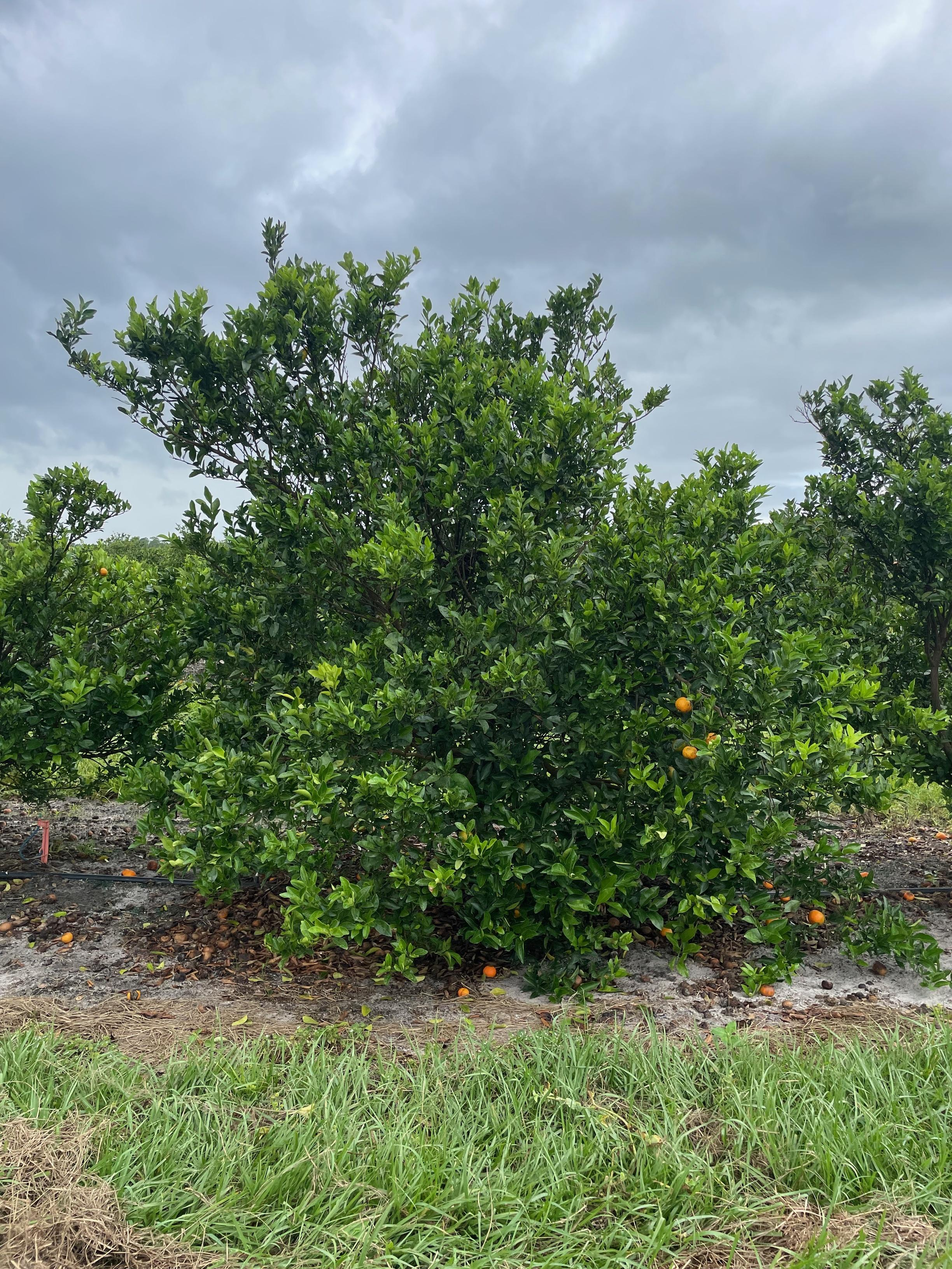fruit_on_ground: (673, 694, 695, 714), (806, 908, 826, 927), (680, 743, 699, 762), (663, 764, 677, 780), (97, 566, 109, 578)
fruit_on_tree: (605, 914, 623, 931), (871, 960, 889, 977), (658, 923, 675, 939), (481, 963, 498, 979), (758, 982, 776, 997), (0, 918, 15, 935), (145, 857, 161, 871), (60, 929, 75, 943), (456, 984, 471, 998), (570, 974, 583, 988), (821, 978, 835, 991), (121, 866, 137, 877), (867, 993, 880, 1005), (722, 959, 735, 970), (780, 892, 793, 903), (934, 830, 947, 841), (902, 890, 915, 901), (67, 831, 79, 842), (763, 877, 774, 889), (906, 835, 919, 845), (639, 972, 652, 982), (762, 916, 774, 926), (781, 999, 793, 1009)
